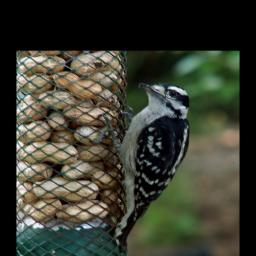Woodpecker: (95, 80, 203, 251)
